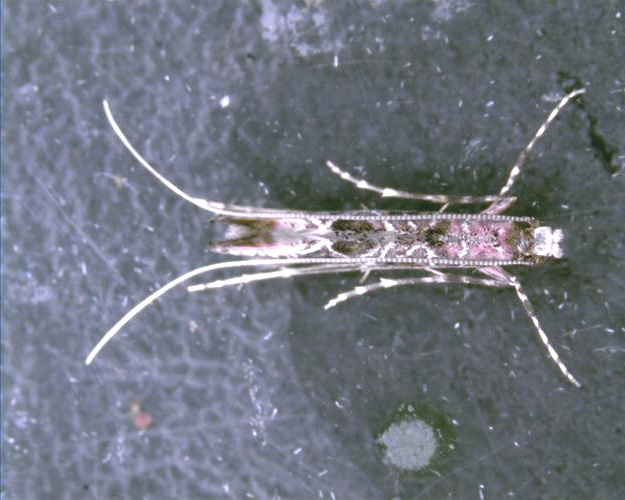Borer: (178, 140, 583, 304)
